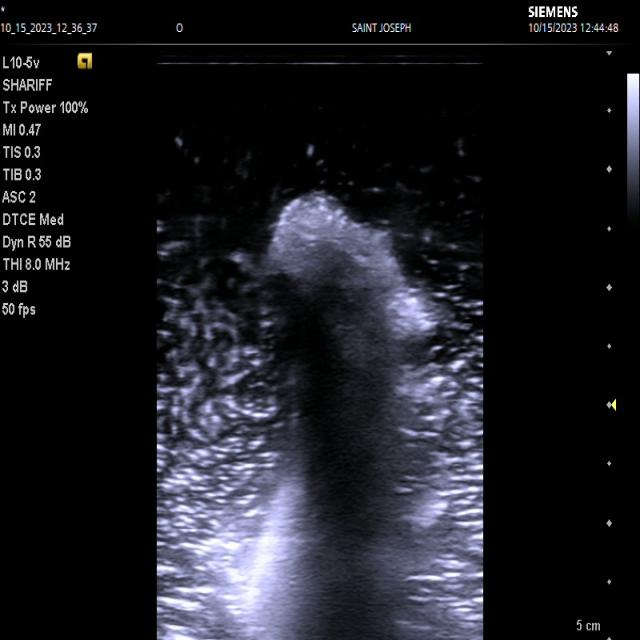tissue: (231, 194, 482, 640)
